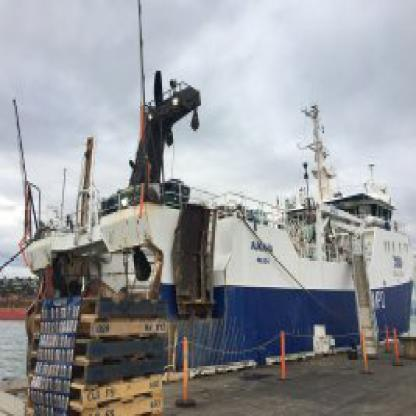fish-b: (5, 92, 414, 376)
